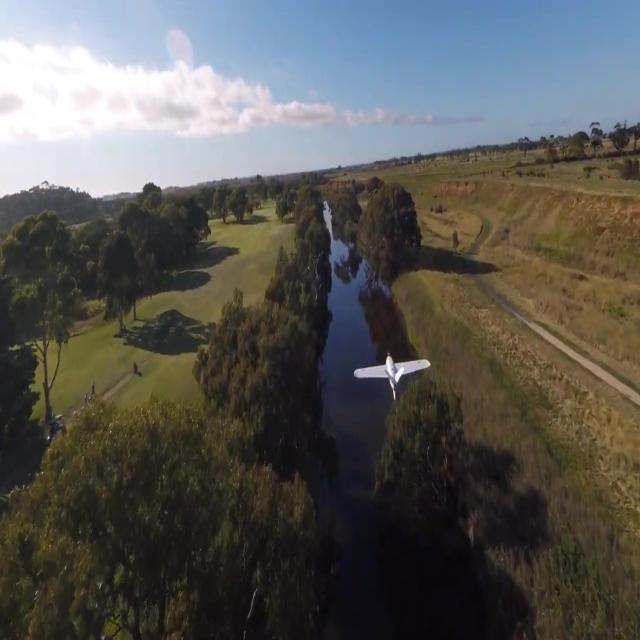iha: (379, 351, 394, 402)
